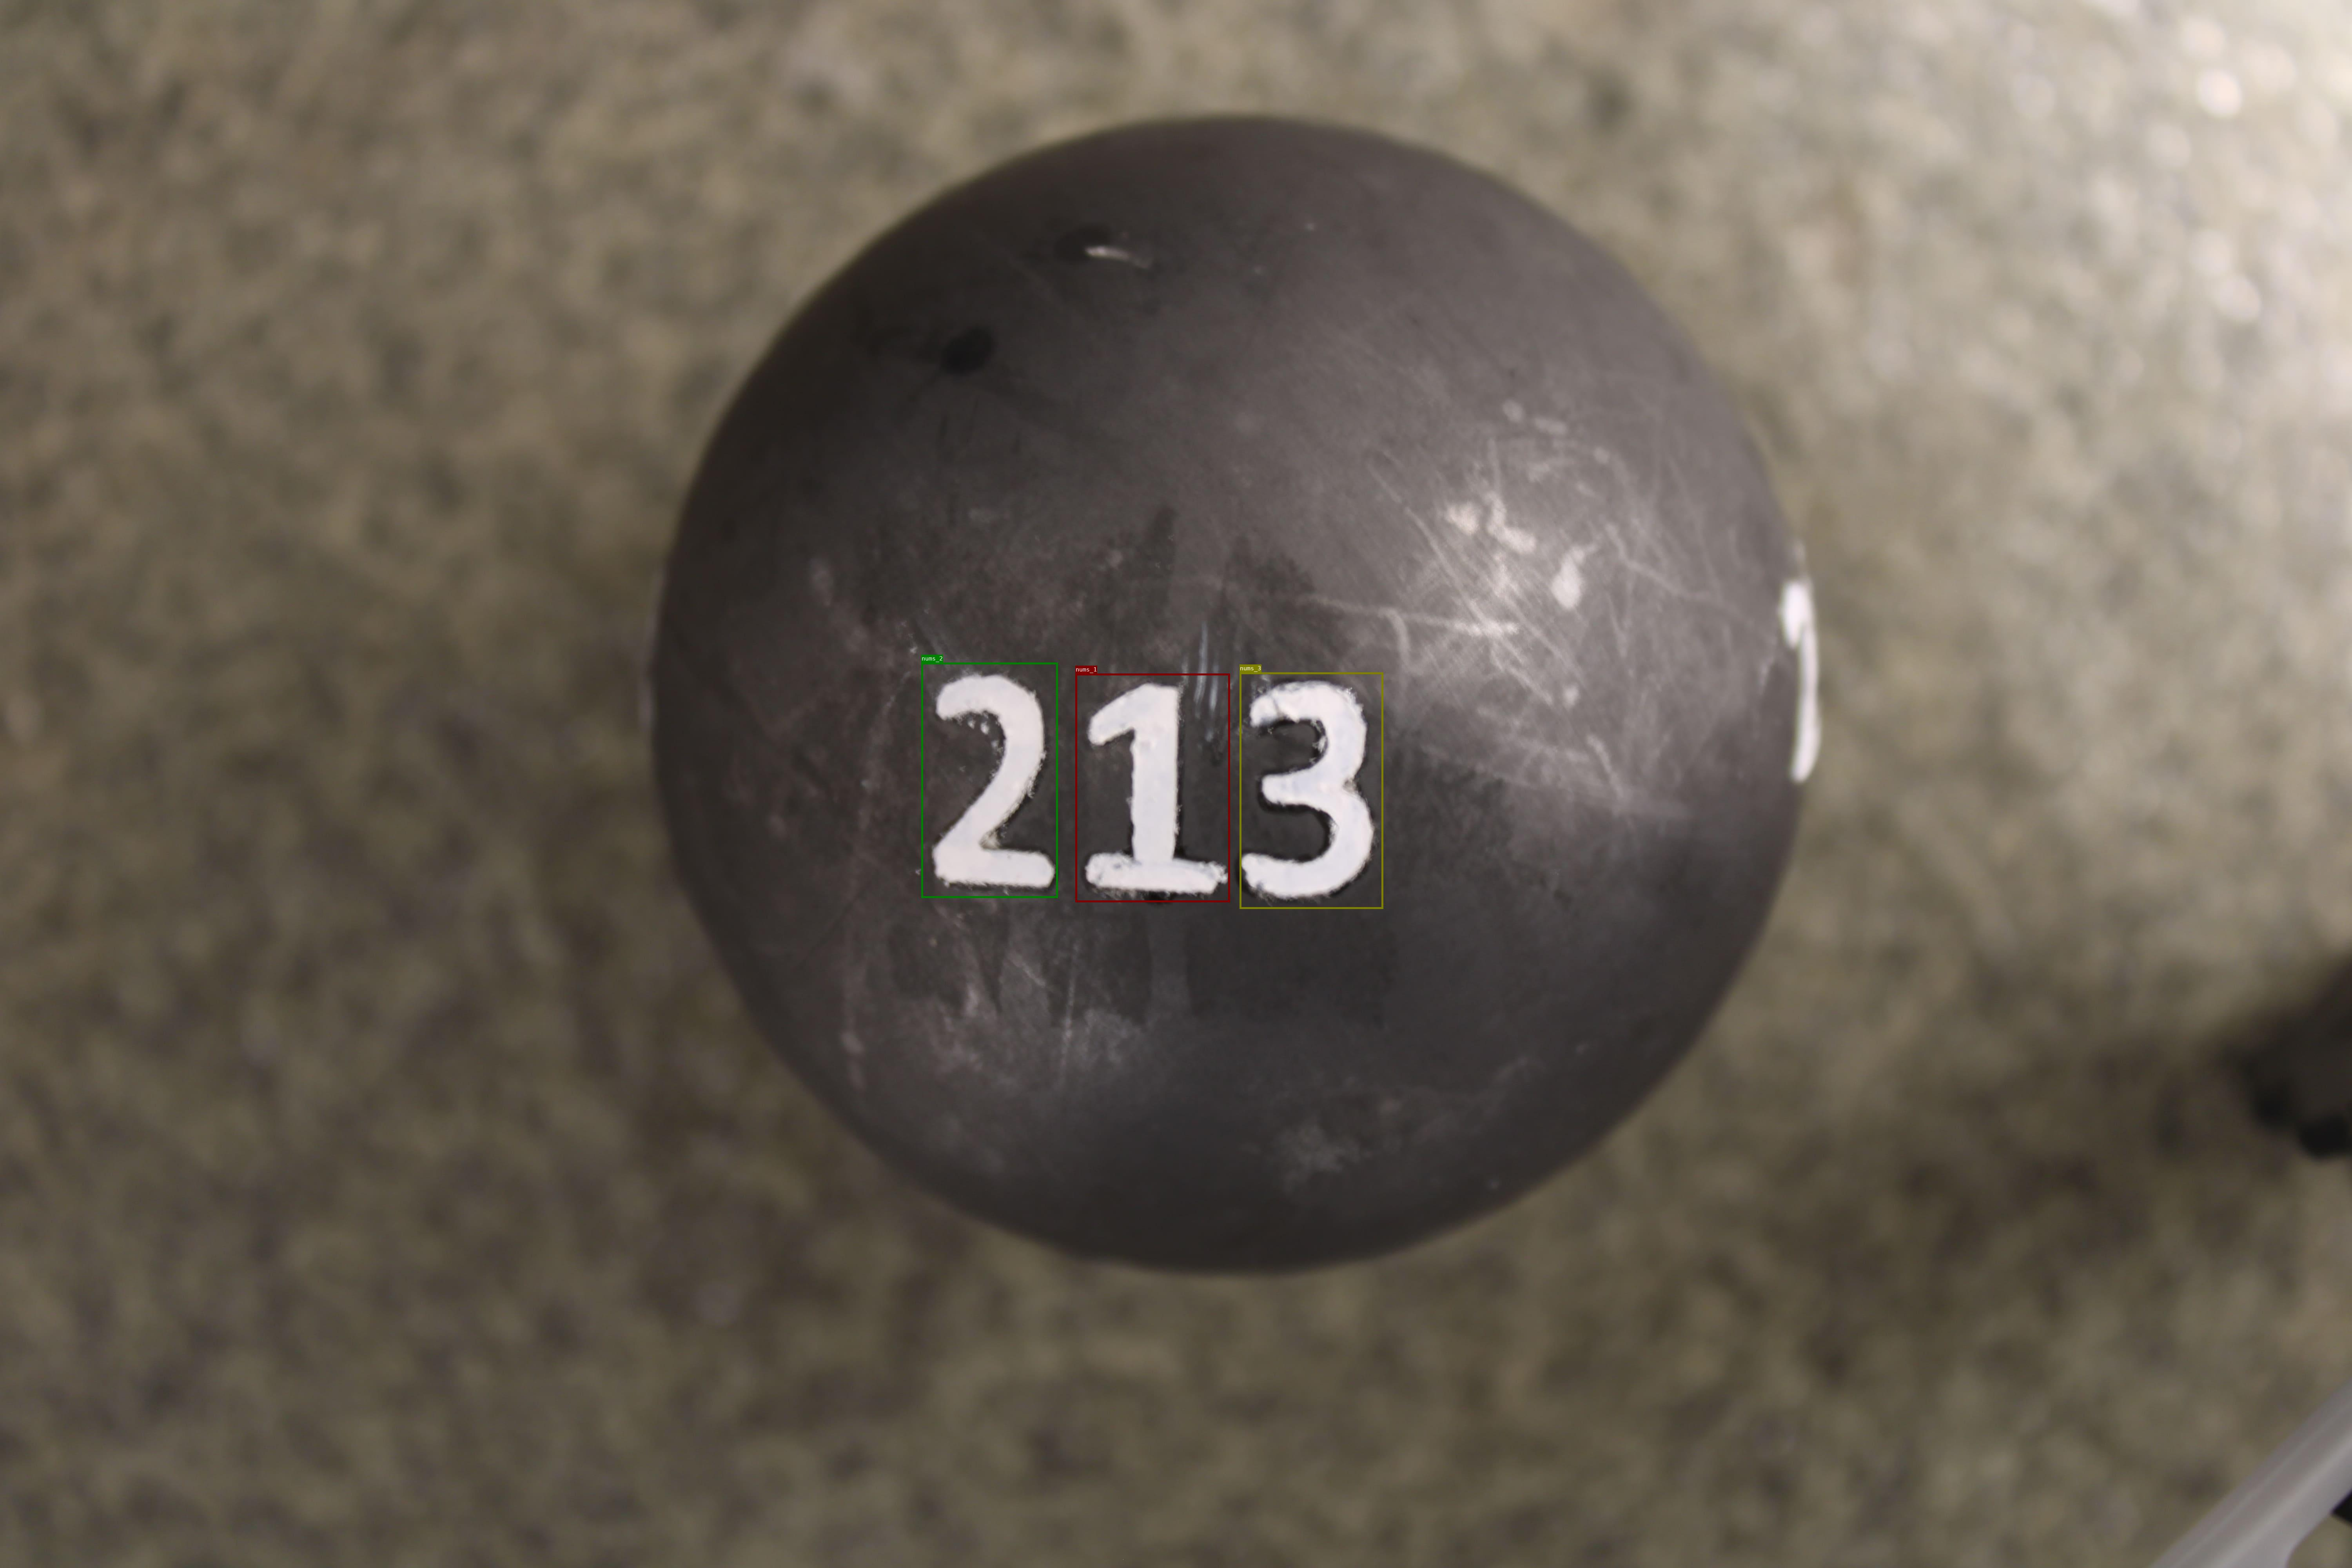nums_1: (1074, 674, 1230, 901)
nums_2: (921, 663, 1057, 898)
nums_3: (1239, 672, 1382, 908)
